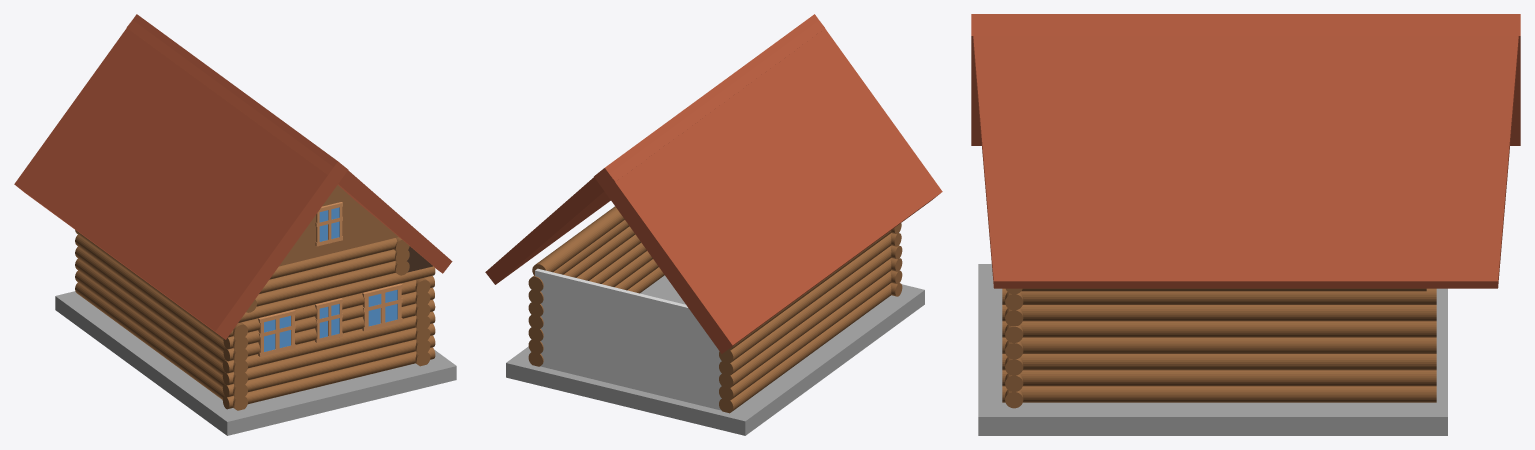
Rendered from house.fbx.
3 views of the same model, side by side, from view 1: azimuth 30°, elevation 25°; view 2: azimuth 150°, elevation 25°; view 3: azimuth 270°, elevation 25° (orthographic). The views are drawn at different scales.
Visible parts, largest first — view 1: Cube.001, Cube, Cube.002, Cube.003, Cylinder.002, Cylinder, Cylinder.001, Cylinder.034, Cylinder.007, Cylinder.003, Cylinder.005, Cylinder.006 (+14 smaller); view 2: Cube.001, Cube.006, Cube, Cube.002, Cylinder.006, Cylinder.003, Cylinder.004, Cylinder.005, Cylinder.007, Cylinder.018, Cylinder.016, Cylinder.017 (+6 smaller); view 3: Cube.002, Cube, Cube.001, Cylinder.015, Cylinder.012, Cylinder.016, Cylinder.011, Cylinder.013, Cylinder.014, Cylinder.017, Cylinder.018.
Part boxes in pixels (x1,y1,x2,y2): Cube.001: [14, 14, 348, 339]; Cube: [55, 291, 456, 435]; Cube.002: [126, 20, 452, 273]; Cube.003: [279, 185, 398, 266]; Cylinder.002: [222, 323, 435, 385]; Cylinder: [222, 347, 435, 409]; Cylinder.001: [222, 335, 435, 397]; Cylinder.034: [238, 266, 435, 322]; Cylinder.007: [75, 235, 247, 363]; Cylinder.003: [75, 282, 247, 410]; Cylinder.005: [75, 258, 247, 387]; Cylinder.006: [75, 246, 247, 374]; Cube.001: [594, 14, 942, 353]; Cube.006: [535, 268, 721, 410]; Cube: [506, 275, 924, 435]; Cube.002: [485, 20, 824, 284]; Cylinder.006: [719, 246, 891, 375]; Cylinder.003: [719, 283, 891, 413]; Cylinder.004: [719, 271, 891, 400]; Cylinder.005: [719, 258, 891, 387]; Cylinder.007: [719, 233, 891, 363]; Cylinder.018: [532, 206, 624, 275]; Cylinder.016: [528, 226, 635, 304]; Cylinder.017: [528, 220, 629, 292]; Cube.002: [971, 14, 1520, 288]; Cube: [978, 264, 1447, 435]; Cube.001: [971, 14, 1520, 145]; Cylinder.015: [1002, 321, 1436, 337]; Cylinder.012: [1002, 370, 1436, 386]; Cylinder.016: [1002, 305, 1436, 321]; Cylinder.011: [1002, 386, 1436, 402]; Cylinder.013: [1002, 354, 1436, 370]; Cylinder.014: [1002, 337, 1436, 353]; Cylinder.017: [1002, 288, 1436, 304]; Cylinder.018: [1021, 288, 1426, 291].
Bounding box in the file's own units: 1076 × 1048 × 1529.
